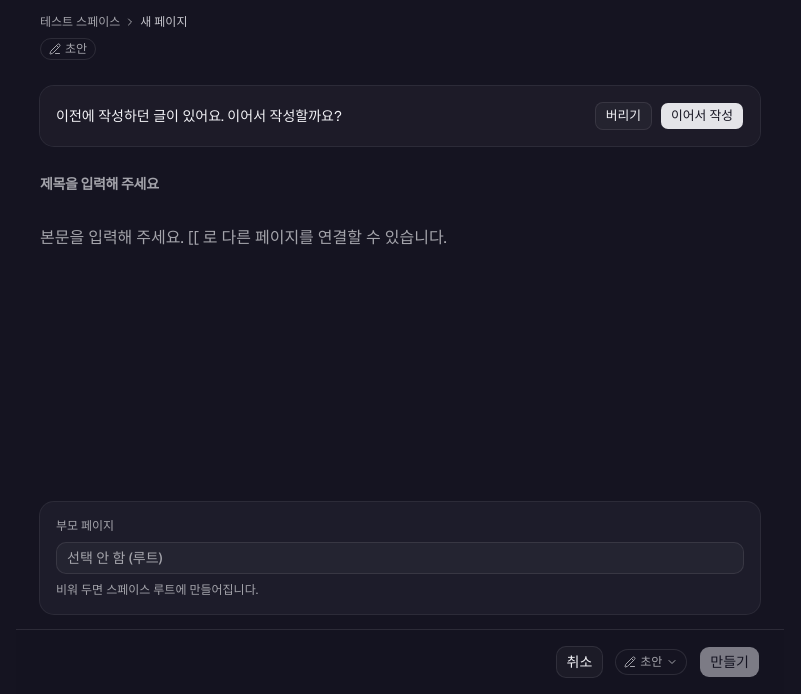
Scenario: NewPageView — localStorage draft › banner 의 '버리기' 를 누르면 localStorage 가 정리되고 폼은 빈 상태를 유지한다
Click the button "버리기": (623, 116) [595, 102, 652, 130]
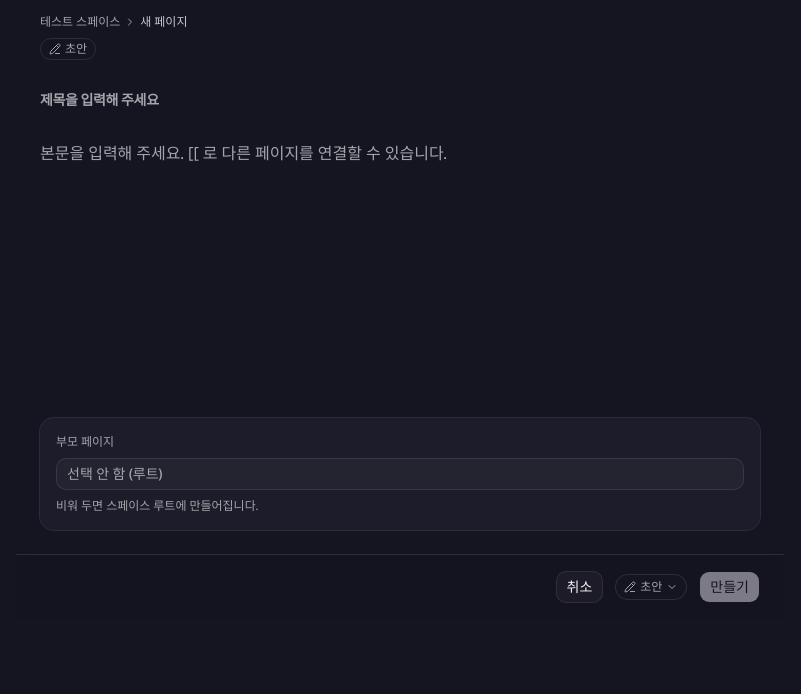
Expected: the field with placeholder "제목을 입력해 주세요" is empty, [40, 86, 760, 114]
Expected: the text "이전에 작성하던 글이 있어요" is gone
